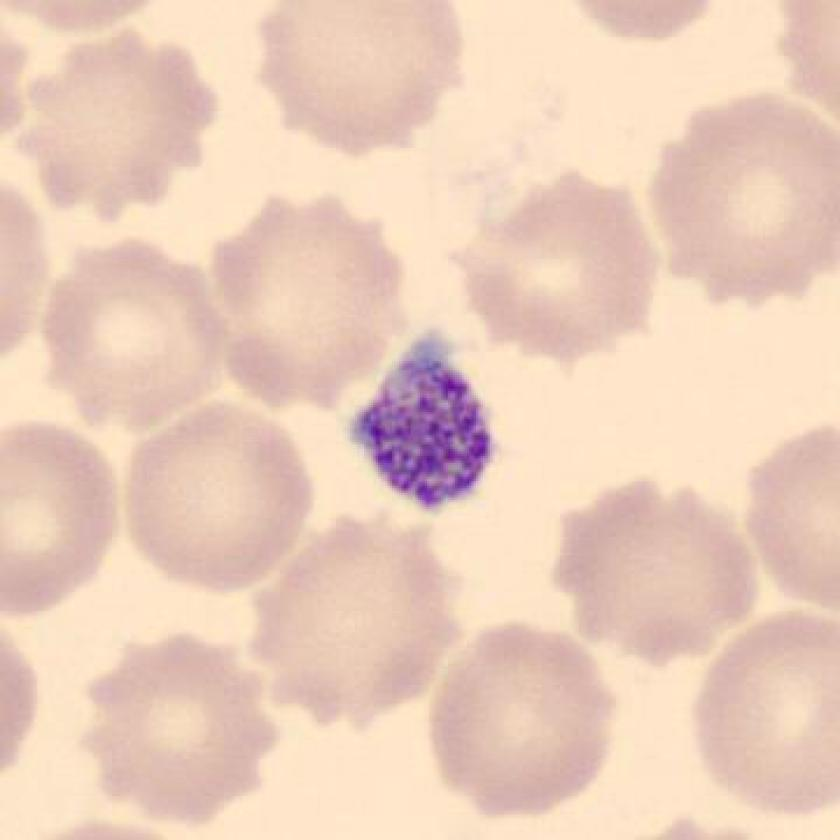platelets: (337, 327, 517, 515)
